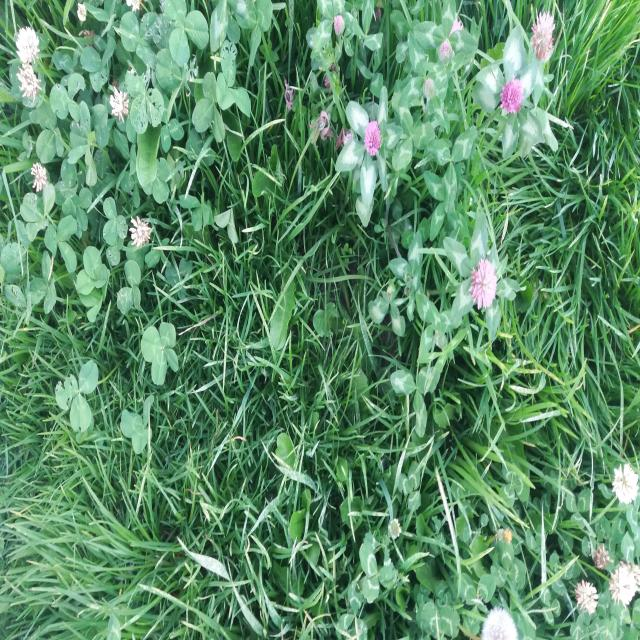Four Leaf Clover: (141, 322, 178, 386)
